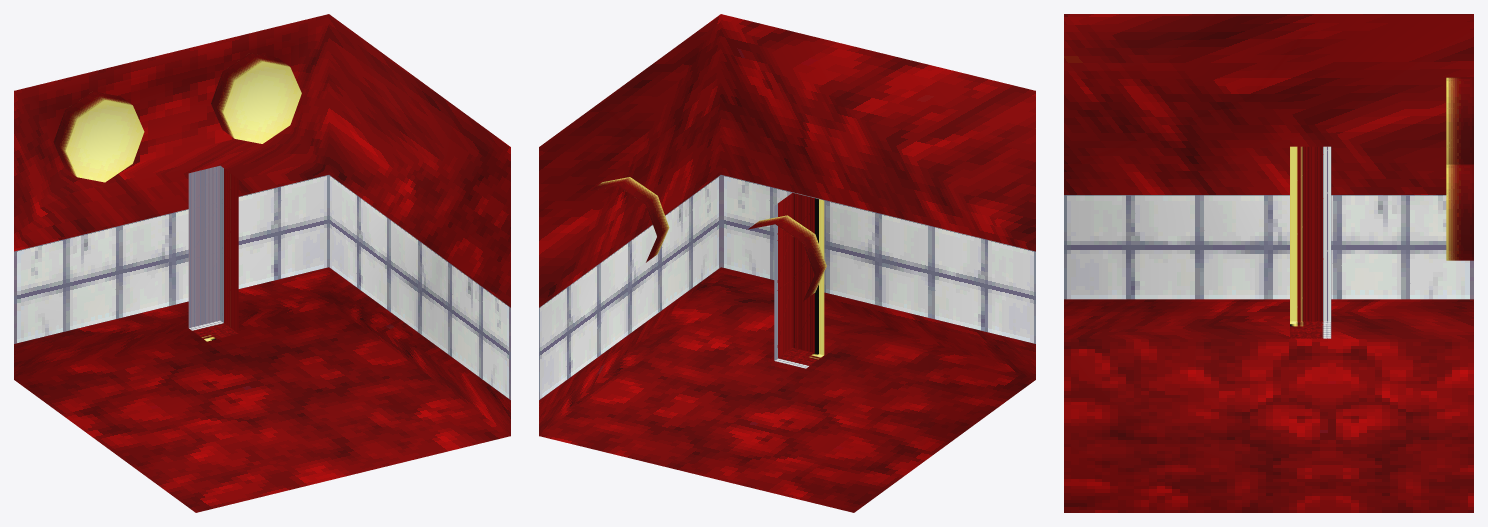
The model's file is ps2_save-icons_uekinohousokutaosuzerobertjuudan.glb.
3 views of the same model, side by side, from view 1: azimuth 30°, elevation 25°; view 2: azimuth 150°, elevation 25°; view 3: azimuth 270°, elevation 25° (orthographic). The views are drawn at different scales.
Visible parts, largest first — view 1: ico0.ico; view 2: ico0.ico; view 3: ico0.ico.
Part boxes in pixels (x1=…): ico0.ico: x1=14, y1=14, x2=510, y2=512; ico0.ico: x1=539, y1=14, x2=1035, y2=512; ico0.ico: x1=1064, y1=14, x2=1473, y2=512.
Size of the model in its own units: 2.48 by 2.18 by 2.48.
Materials: 1 (1 with a texture image).
